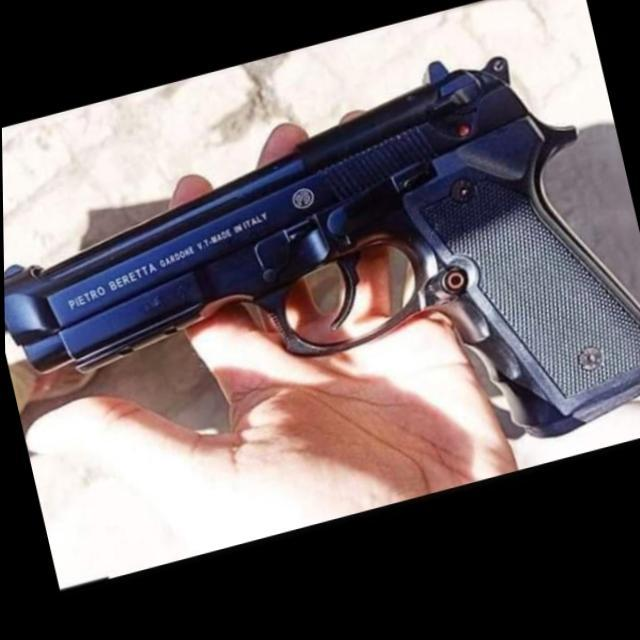weapon: (1, 18, 640, 575)
